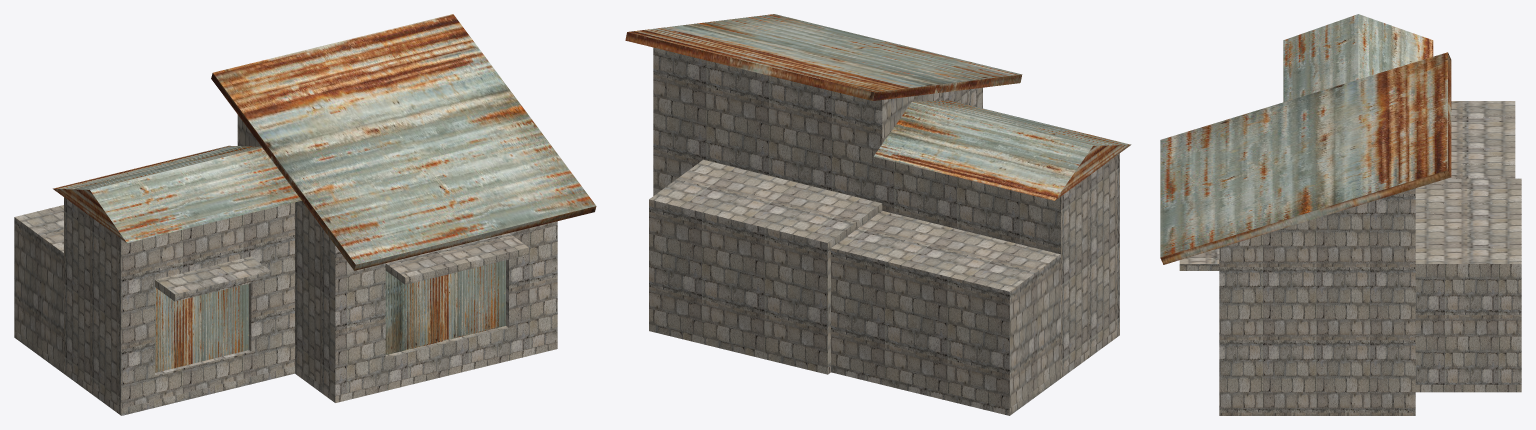
Rendered from Premium house1.fbx.
The picture shows the model from 3 angles, left to right: view 1: azimuth 30°, elevation 25°; view 2: azimuth 150°, elevation 25°; view 3: azimuth 270°, elevation 25°; orthographic projection. The views are drawn at different scales.
Visible parts, largest first — view 1: Cube, Plane, Cube.001; view 2: Cube, Plane, Cube.001; view 3: Cube, Plane, Cube.001.
Part boxes in pixels (x1,y1,x2,y2): Cube: (14, 115, 557, 415); Plane: (211, 14, 596, 270); Cube.001: (53, 145, 301, 243); Cube: (649, 47, 1119, 415); Plane: (625, 14, 1022, 100); Cube.001: (874, 100, 1131, 200); Cube: (1179, 101, 1521, 415); Plane: (1160, 52, 1451, 264); Cube.001: (1283, 14, 1433, 102).
Size of the model in its own units: 1668 by 974 by 1274.
Materials: 4 (4 with a texture image).
